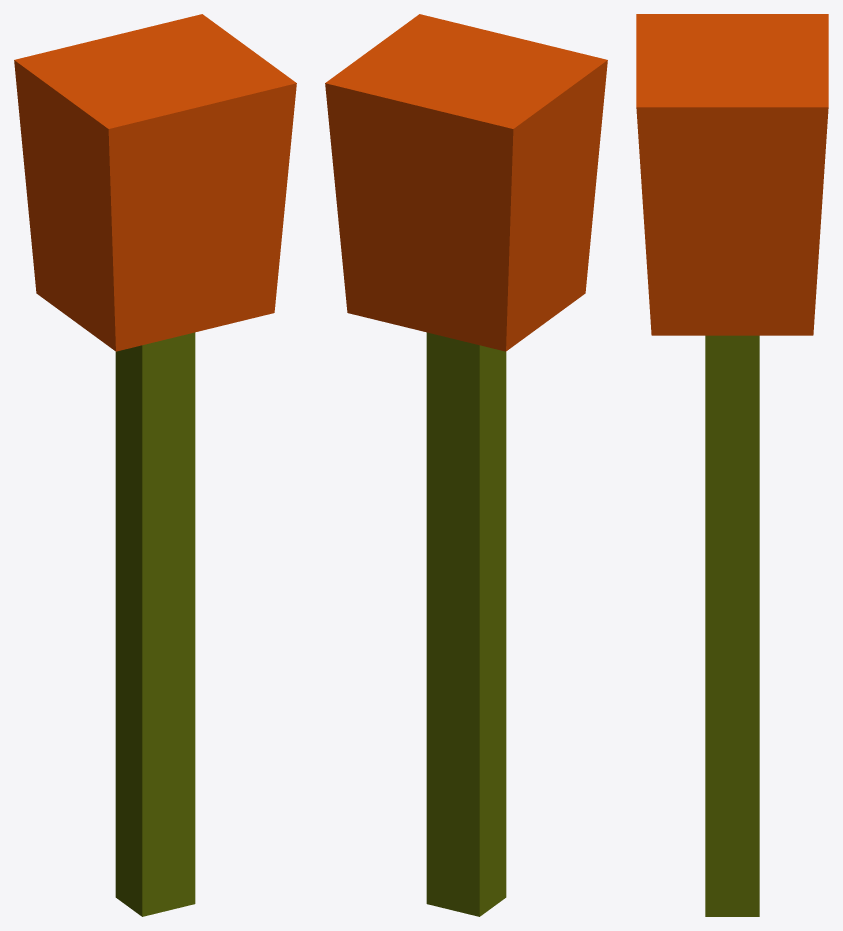
Rendered from CityFlower_01.fbx.
The picture shows the model from 3 angles, left to right: view 1: azimuth 30°, elevation 25°; view 2: azimuth 150°, elevation 25°; view 3: azimuth 270°, elevation 25°; orthographic projection.
Visible parts, largest first — view 1: CityFlower_01; view 2: CityFlower_01; view 3: CityFlower_01.
Boxes of the visible parts, x1,y1,x2,y2 form: CityFlower_01: [14, 14, 296, 916]; CityFlower_01: [325, 14, 607, 916]; CityFlower_01: [636, 14, 828, 916].
Bounding box in the file's own units: 0.0199 × 0.0838 × 0.0173.
